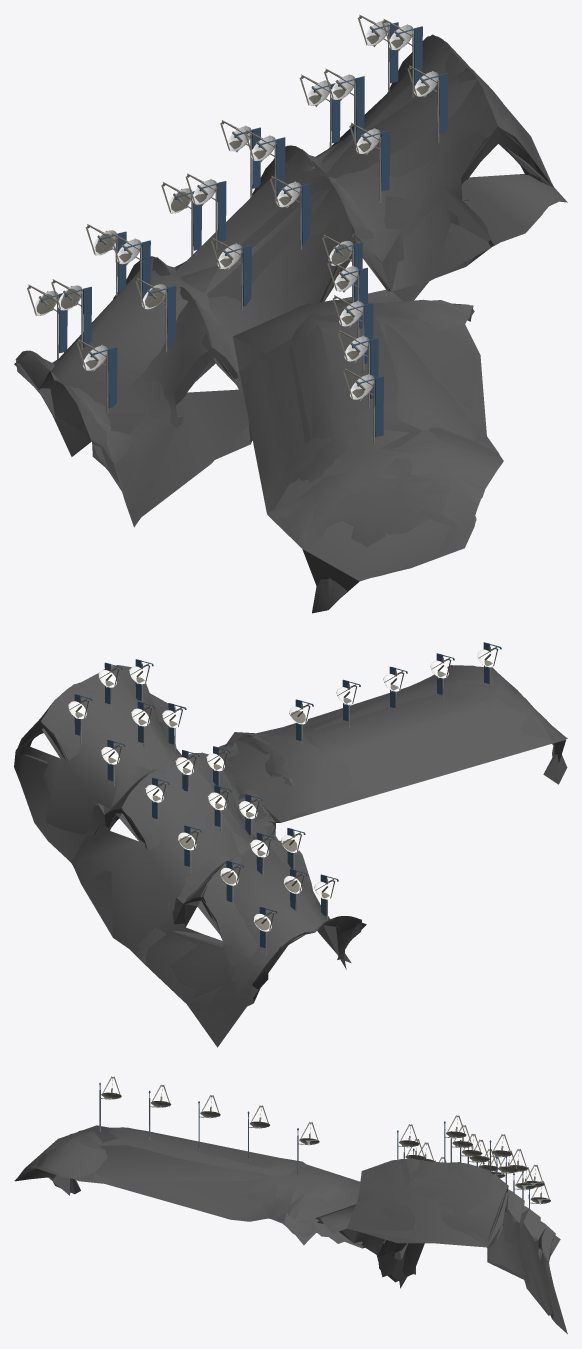
File: Overlay_4th_Gal_Top.glb
3 views of the same model, one above another, from view 1: azimuth 30°, elevation 25°; view 2: azimuth 150°, elevation 25°; view 3: azimuth 270°, elevation 25° (orthographic). The views are drawn at different scales.
Parts seen in each view (by area): view 1: Overlay_4thGal_Top.002, Overlay_4thGal_Top, Overlay_4thGal_Top.001, LightTubes_4thGal_Top_LEDs, LightTubes_4thGal_Top_Mirrors, LightTubes_4thGal_Top_Mirrors.002, LightTubes_4thGal_Top_Mirrors.001, LightTubes_4thGal_Top_LEDs.001, LightTubes_4thGal_Top_Bases, LightTubes_4thGal_Top_Bases.001; view 2: Overlay_4thGal_Top.002, Overlay_4thGal_Top, Overlay_4thGal_Top.001, LightTubes_4thGal_Top_LEDs, LightTubes_4thGal_Top_Mirrors, LightTubes_4thGal_Top_Mirrors.002, LightTubes_4thGal_Top_Mirrors.001, LightTubes_4thGal_Top_Bases; view 3: Overlay_4thGal_Top, Overlay_4thGal_Top.002, Overlay_4thGal_Top.001, LightTubes_4thGal_Top_Mirrors, LightTubes_4thGal_Top_LEDs, LightTubes_4thGal_Top_Mirrors.001, LightTubes_4thGal_Top_Bases, LightTubes_4thGal_Top_Mirrors.002.
Part boxes in pixels (x1,y1,x2,y2): Overlay_4thGal_Top.002: [14, 51, 567, 596]; Overlay_4thGal_Top: [15, 36, 566, 613]; Overlay_4thGal_Top.001: [16, 34, 558, 609]; LightTubes_4thGal_Top_LEDs: [41, 22, 448, 436]; LightTubes_4thGal_Top_Mirrors: [27, 14, 438, 399]; LightTubes_4thGal_Top_Mirrors.002: [36, 20, 438, 400]; LightTubes_4thGal_Top_Mirrors.001: [30, 18, 439, 399]; LightTubes_4thGal_Top_LEDs.001: [41, 23, 440, 433]; LightTubes_4thGal_Top_Bases: [53, 27, 439, 445]; LightTubes_4thGal_Top_Bases.001: [54, 26, 439, 445]; Overlay_4thGal_Top.002: [15, 666, 565, 1043]; Overlay_4thGal_Top: [14, 665, 567, 1027]; Overlay_4thGal_Top.001: [14, 665, 566, 1047]; LightTubes_4thGal_Top_LEDs: [74, 642, 501, 947]; LightTubes_4thGal_Top_Mirrors: [68, 647, 498, 931]; LightTubes_4thGal_Top_Mirrors.002: [68, 650, 492, 931]; LightTubes_4thGal_Top_Mirrors.001: [69, 648, 496, 931]; LightTubes_4thGal_Top_Bases: [80, 645, 490, 955]; Overlay_4thGal_Top: [14, 1127, 564, 1331]; Overlay_4thGal_Top.002: [15, 1125, 560, 1321]; Overlay_4thGal_Top.001: [15, 1127, 567, 1334]; LightTubes_4thGal_Top_Mirrors: [101, 1076, 550, 1204]; LightTubes_4thGal_Top_LEDs: [99, 1083, 529, 1208]; LightTubes_4thGal_Top_Mirrors.001: [102, 1079, 549, 1203]; LightTubes_4thGal_Top_Bases: [99, 1098, 539, 1208]; LightTubes_4thGal_Top_Mirrors.002: [103, 1088, 549, 1202].
Size of what is drawn, in the model's own units: 290 by 242 by 413.
